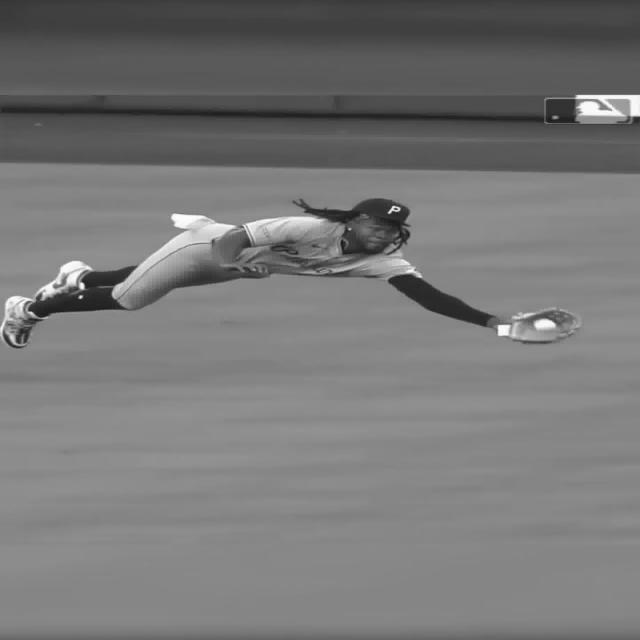baseball: (533, 319, 555, 332)
baseball_glove: (502, 307, 582, 345)
shoe: (0, 295, 57, 352), (39, 257, 99, 305)
